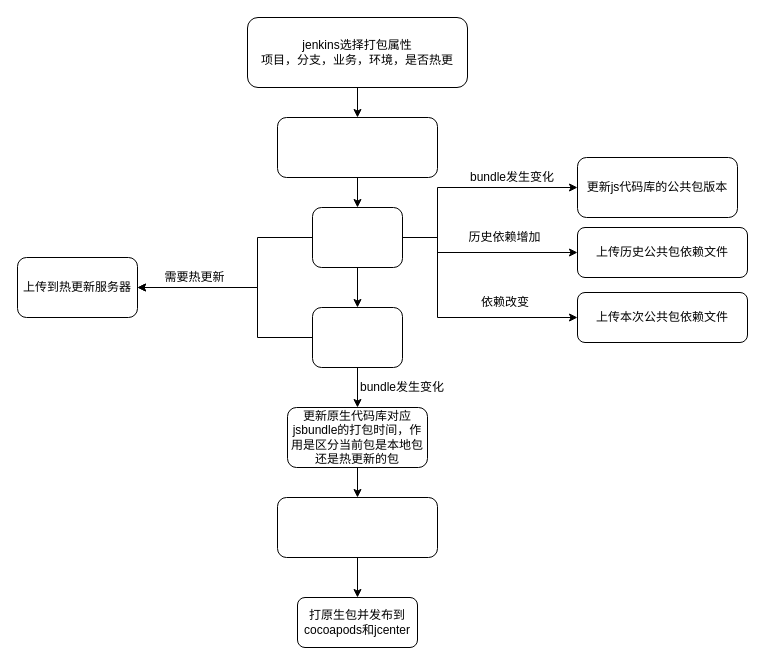
The diagram is 765 pixels wide and 665 high, and some of its shapes have lost their labels. Here are the shapes that lost their labels. From the top down, the centre of each, then its label:
the point at 357,147: 获取历史公共包依赖文件 获取当前代码的上个版本公共包依赖文件
the point at 357,237: 打js公共包
the point at 357,337: 打js业务包
the point at 357,527: 拷贝静态资源到对应的文件夹 如html，svga，音频，字体等
